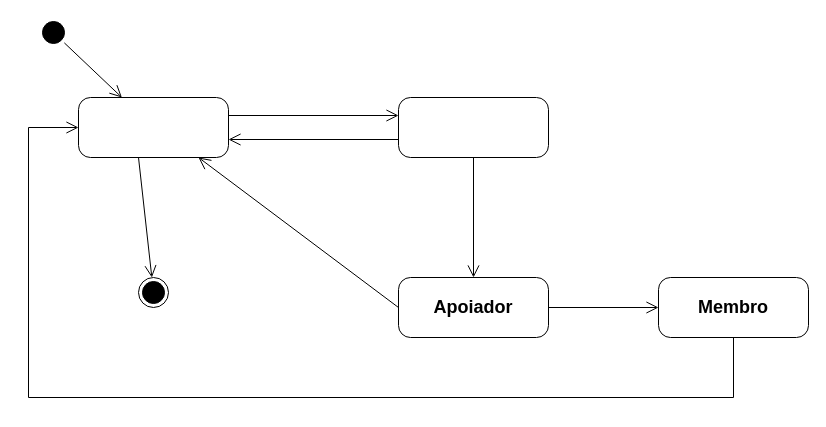
This 826x427 diagram has some shape labels left out. Each missing label, with the centre of its shape:
"Desinscrito" belongs at pixel 153 127.
"Inscrito" belongs at pixel 473 127.
